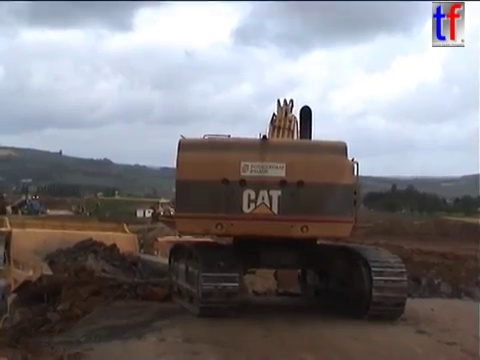excavator: (164, 94, 415, 323)
truck: (1, 215, 225, 360), (149, 233, 242, 307), (135, 201, 178, 222)
